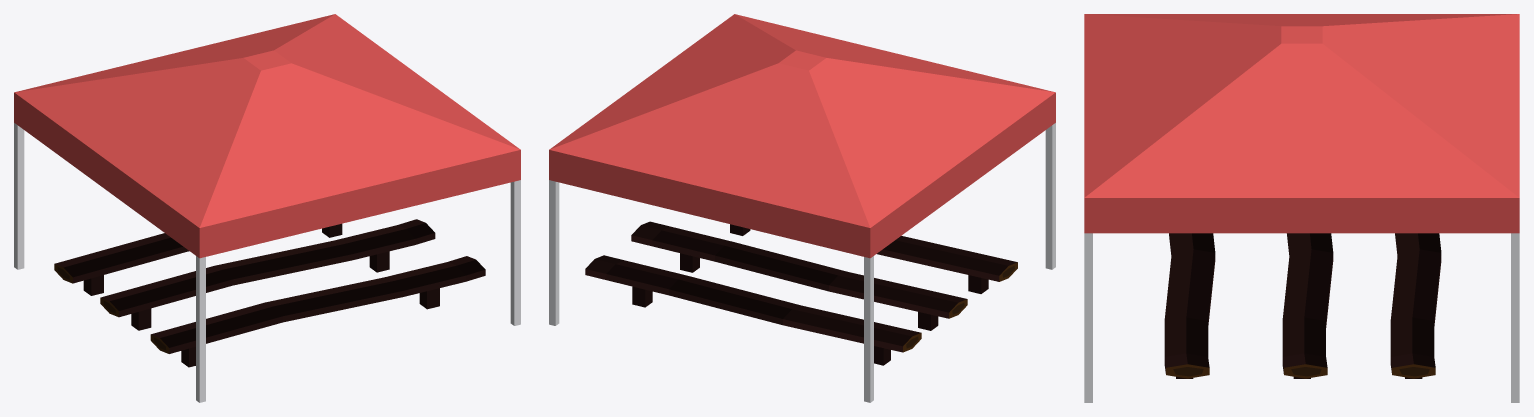
Rendered from tent_1.fbx.
The picture shows the model from 3 angles, left to right: view 1: azimuth 30°, elevation 25°; view 2: azimuth 150°, elevation 25°; view 3: azimuth 270°, elevation 25°; orthographic projection. The views are drawn at different scales.
Visible parts, largest first — view 1: tent_1; view 2: tent_1; view 3: tent_1.
Part boxes in pixels (<box>): tent_1: <box>14,14,520,402</box>; tent_1: <box>549,14,1055,402</box>; tent_1: <box>1084,14,1519,402</box>.
Size of the model in its own units: 1000 by 1000 by 700.
